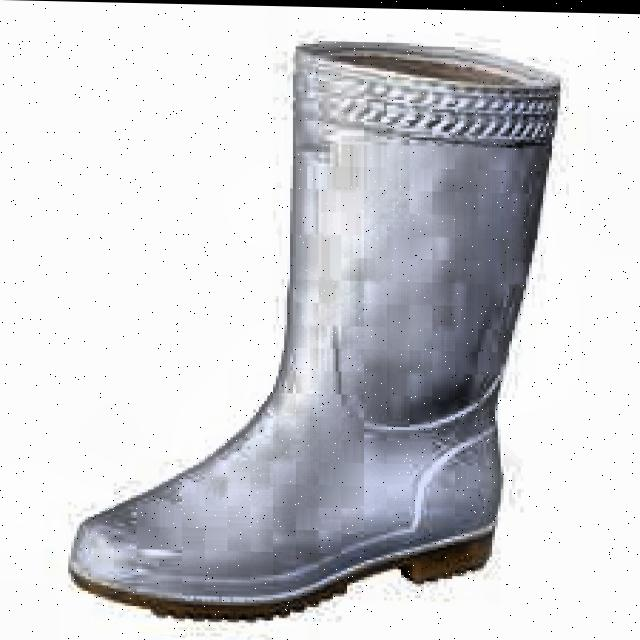shoes: (50, 25, 574, 627)
